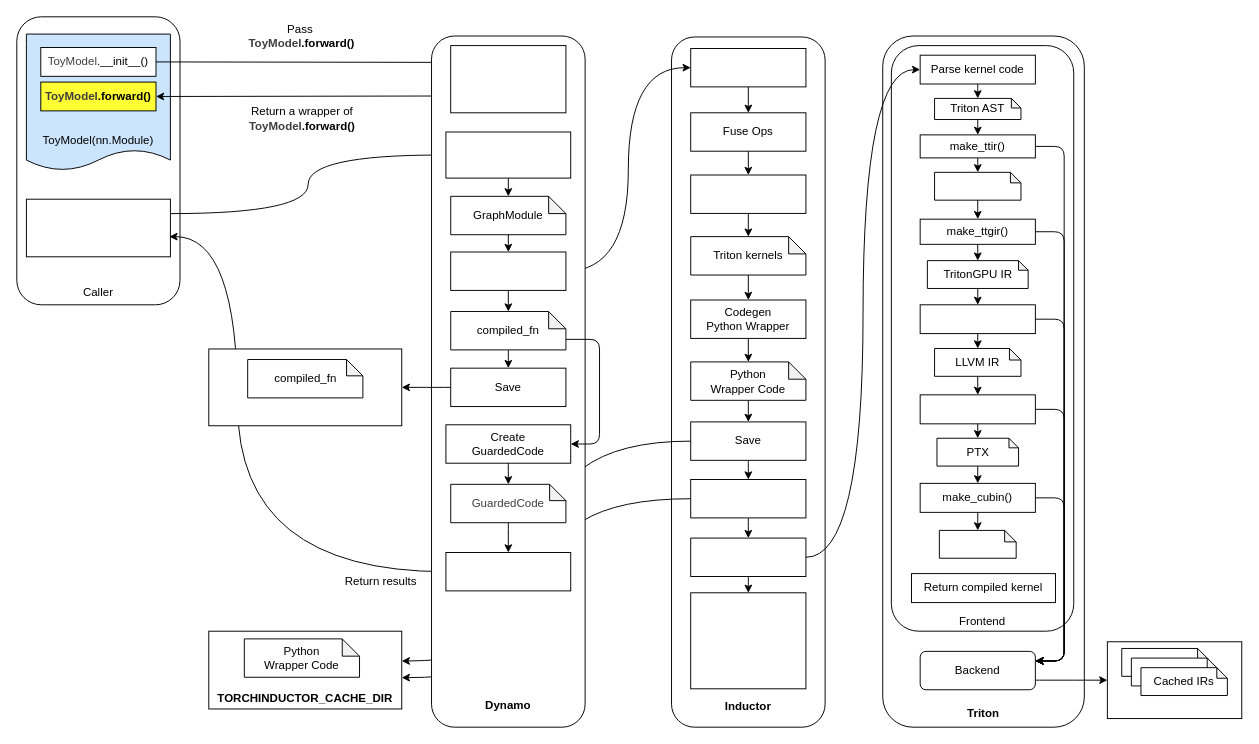
Some shapes in this 1259 by 744 pixel diagram are drawn without their labels. The shapes that lost their labels are listed below. From the top down, each one's box as (x1, y1, x2, y2) in pixels, then its label:
(450, 45, 566, 113): torch.compile
(690, 48, 806, 87): compiler_fn()
(445, 131, 571, 178): Trace bytecode of ToyModel.forward()
(690, 174, 806, 213): Codegen Triton kernels
(934, 171, 1021, 200): Triton IR
(25, 198, 170, 257): toy = ToyModel() toy() --> self.forward()
(450, 251, 566, 290): call_user_compiler()
(919, 304, 1035, 334): make_llir()
(208, 348, 402, 426): DYNAMO_CKPT_PATH
(919, 394, 1035, 424): make_ptx()
(690, 479, 806, 518): Load the saved module
(690, 537, 806, 576): Compile Triton kernels
(938, 529, 1016, 558): cubin
(445, 552, 571, 591): Eval GuardedCode
(690, 592, 806, 689): Return module.call function This function orchestrates calling Triton kernels
(1106, 641, 1242, 719): Triton cache dir
